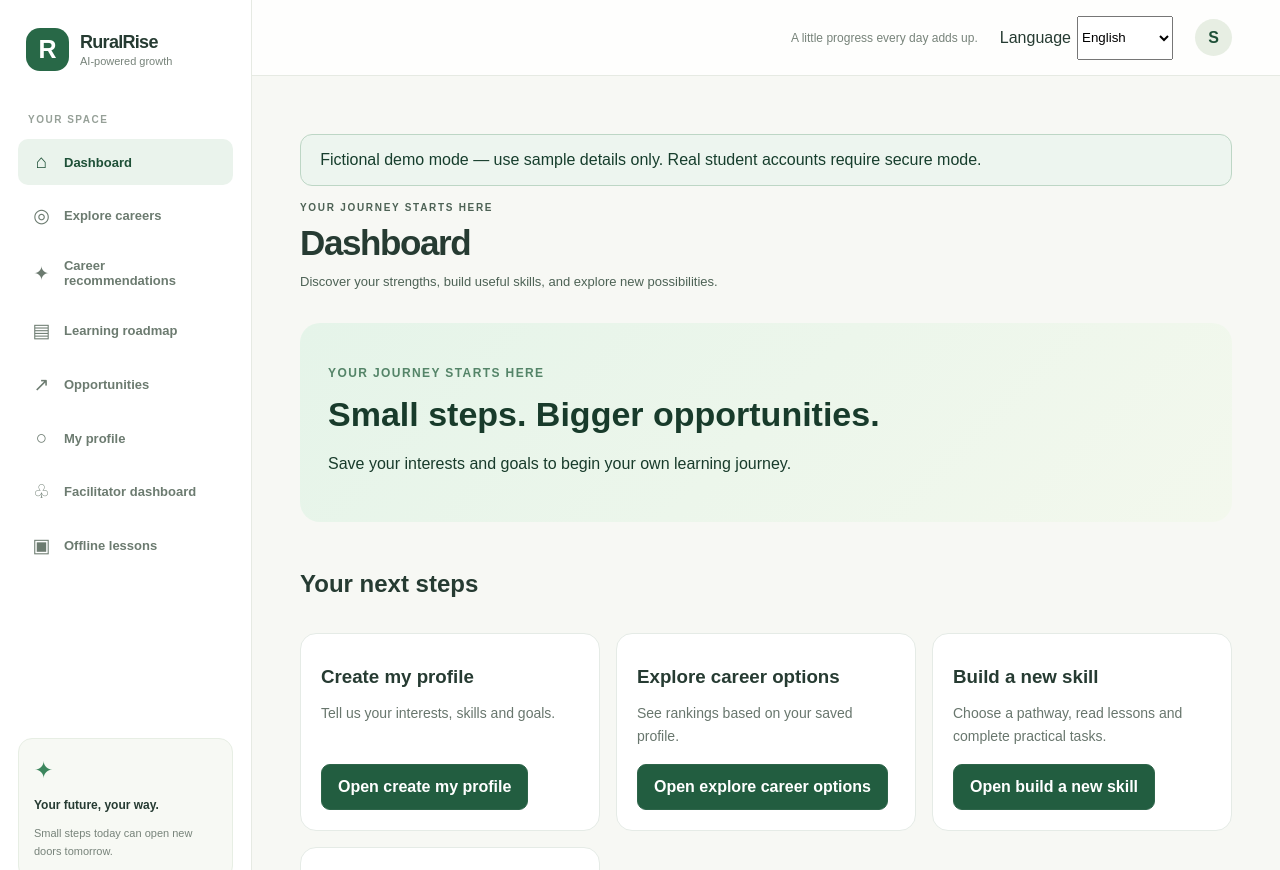
Test: RuralRise AI app › renders the student dashboard and navigates to facilitator and offline lessons
expect the heading "Dashboard" is shown: met, box [300,223,470,262]
// Facilitator dashboard navigation.
Click the button "♧ Facilitator dashboard": (126,492) [18,468,233,515]
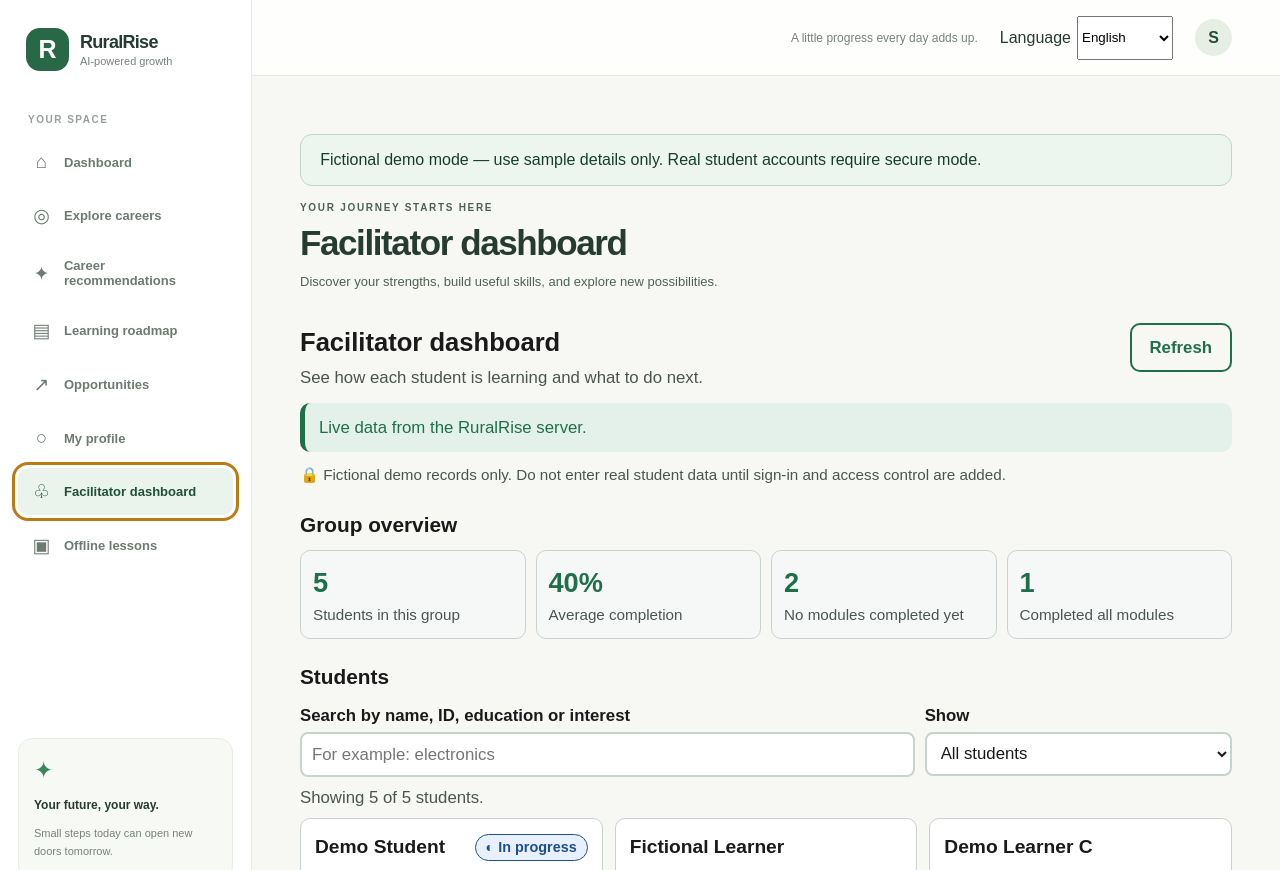
// Offline lessons navigation and demo student selection.
Click the button "▣ Offline lessons": (126,546) [18,522,233,569]
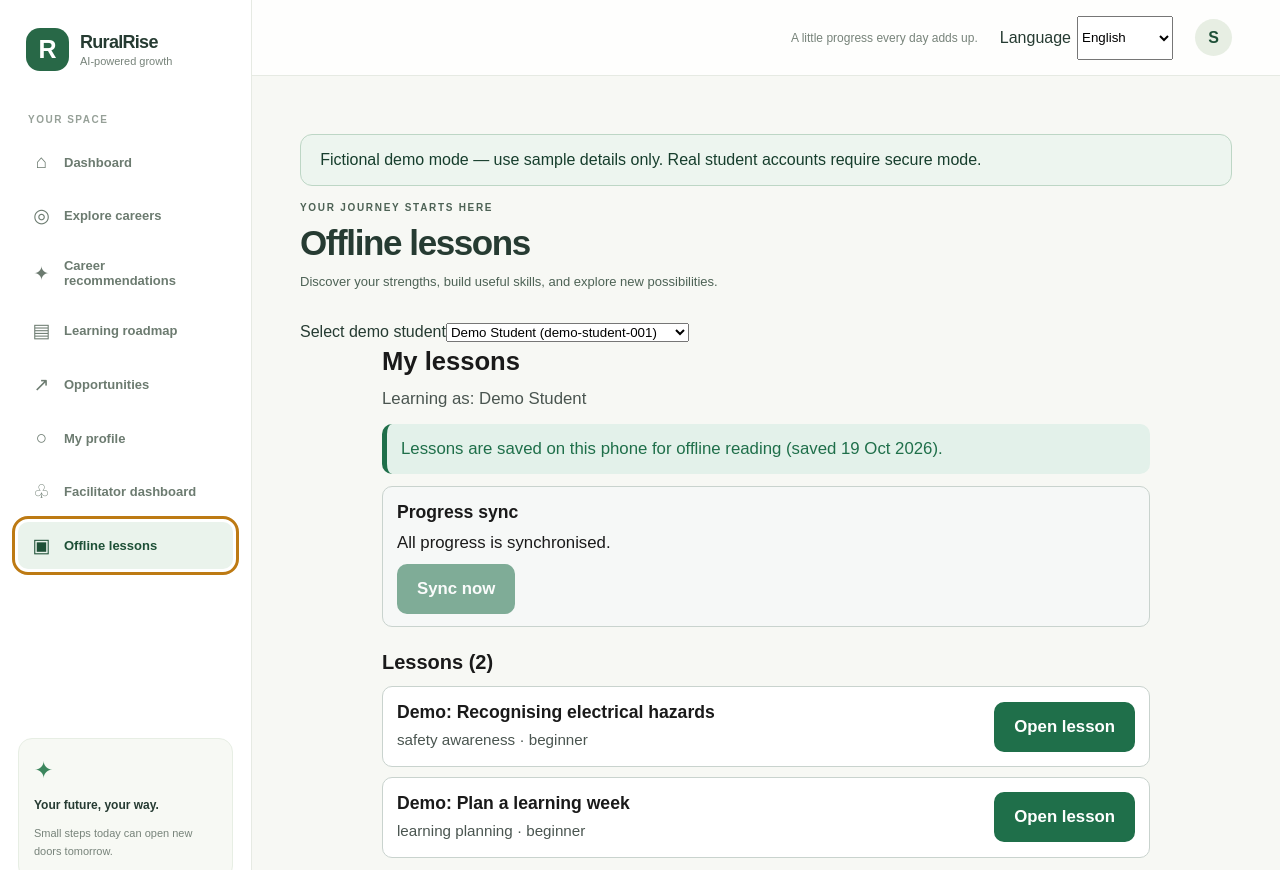
expect the dropdown labelled "Select demo student" is shown: met
Select "Fictional Learner (demo-student-002)" in the dropdown labelled "Select demo student": (567,333) [446,323,689,342]
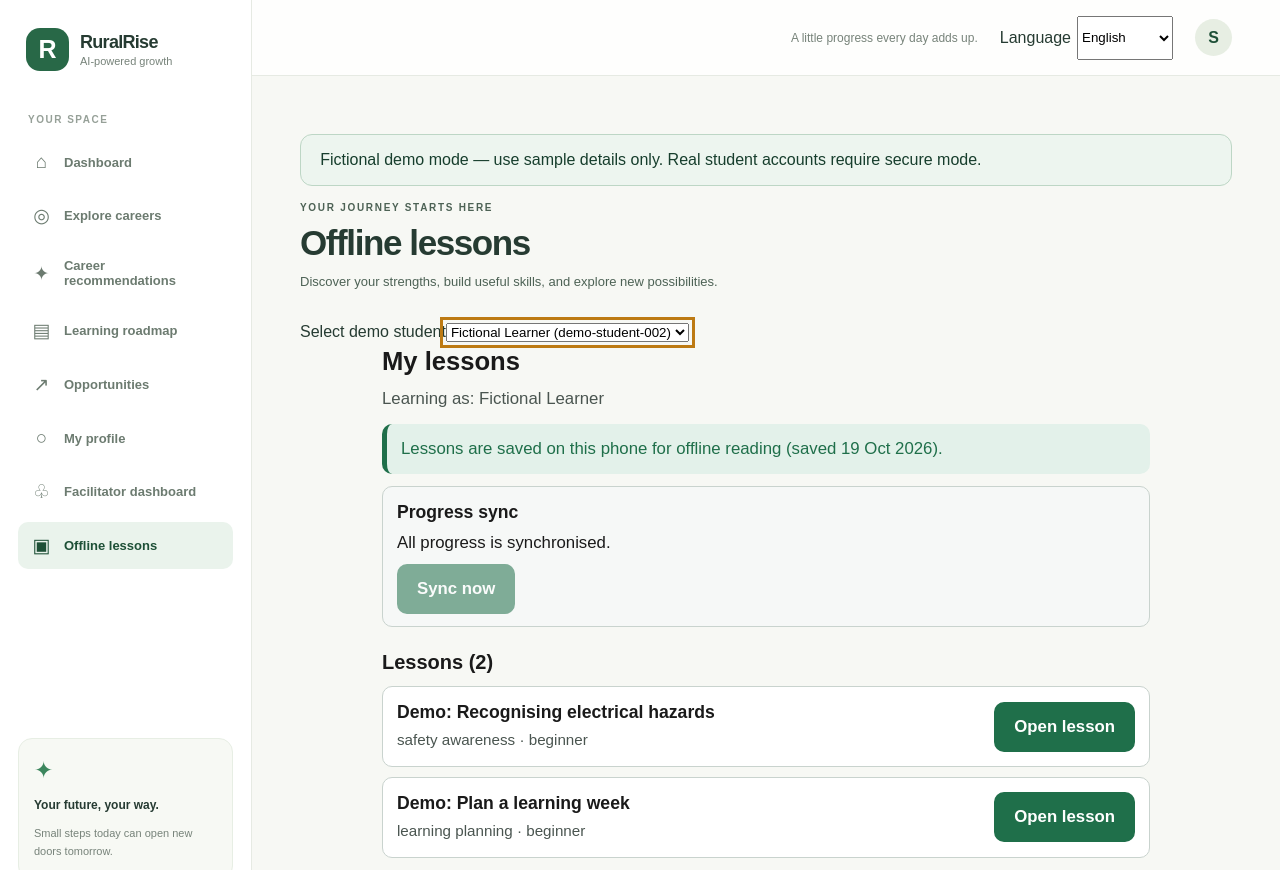
expect the text "Learning as: Fictional Learner" is shown: met, box [382,389,604,408]
